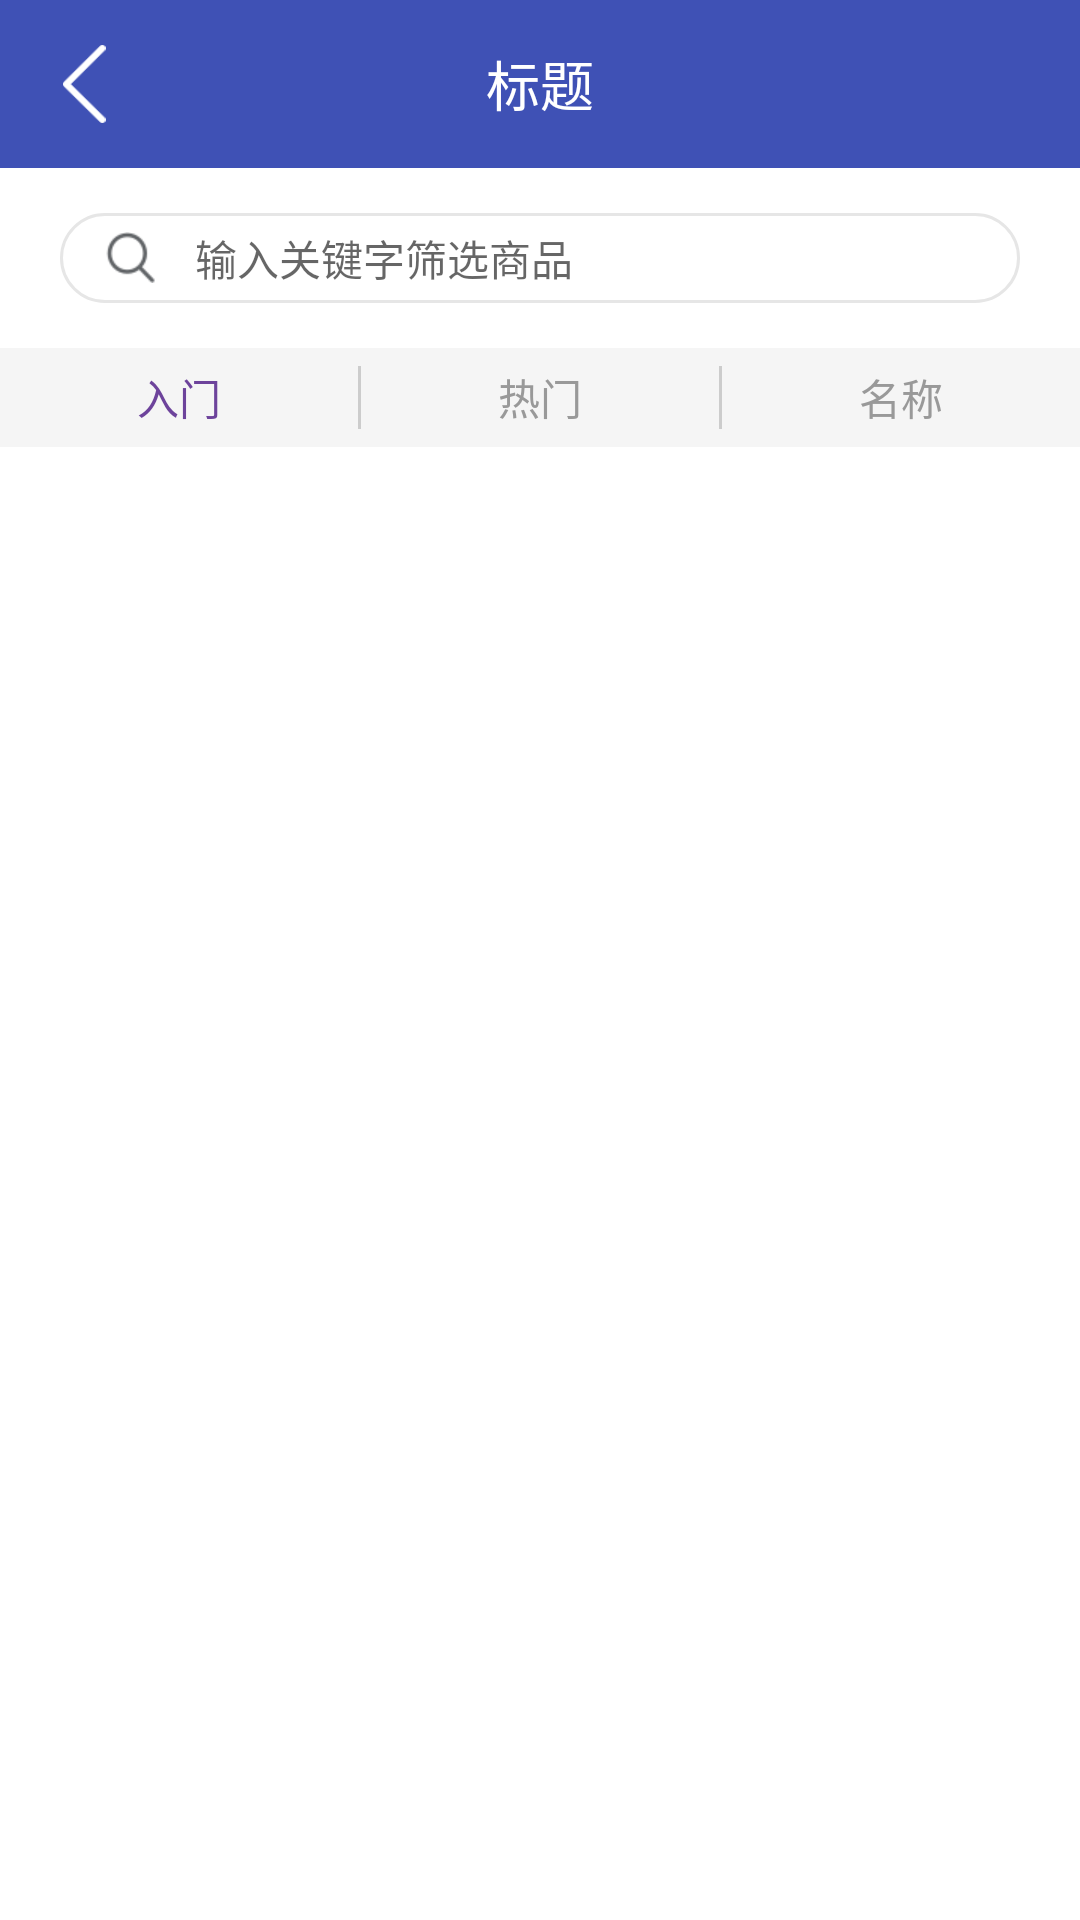

Icon bounding boxes for this 1080 x 1920 phone screenshot, format (x1, y1, x2, y2):
angle left: (63, 45, 106, 123)
search: (107, 232, 155, 283)
